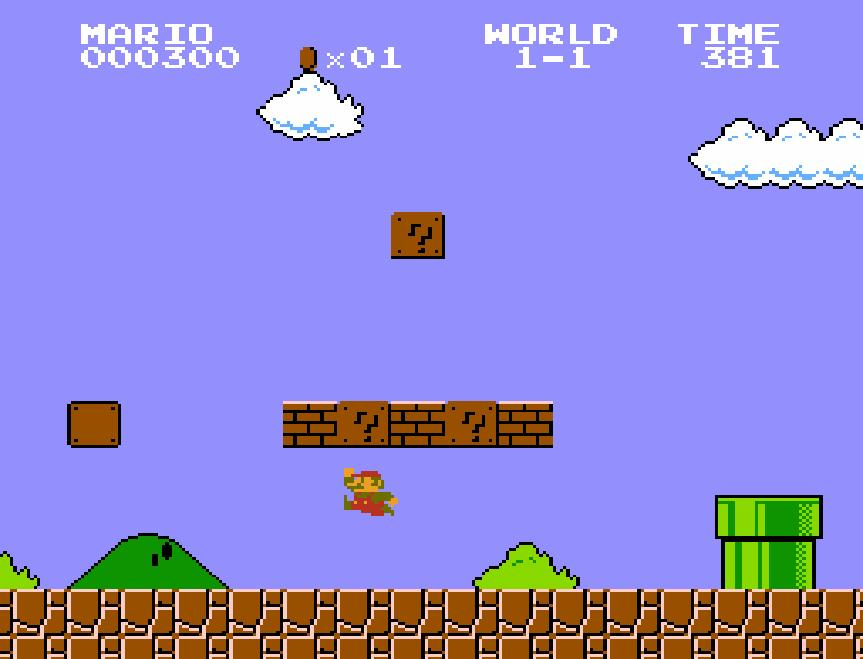little_mario: (342, 467, 400, 517)
